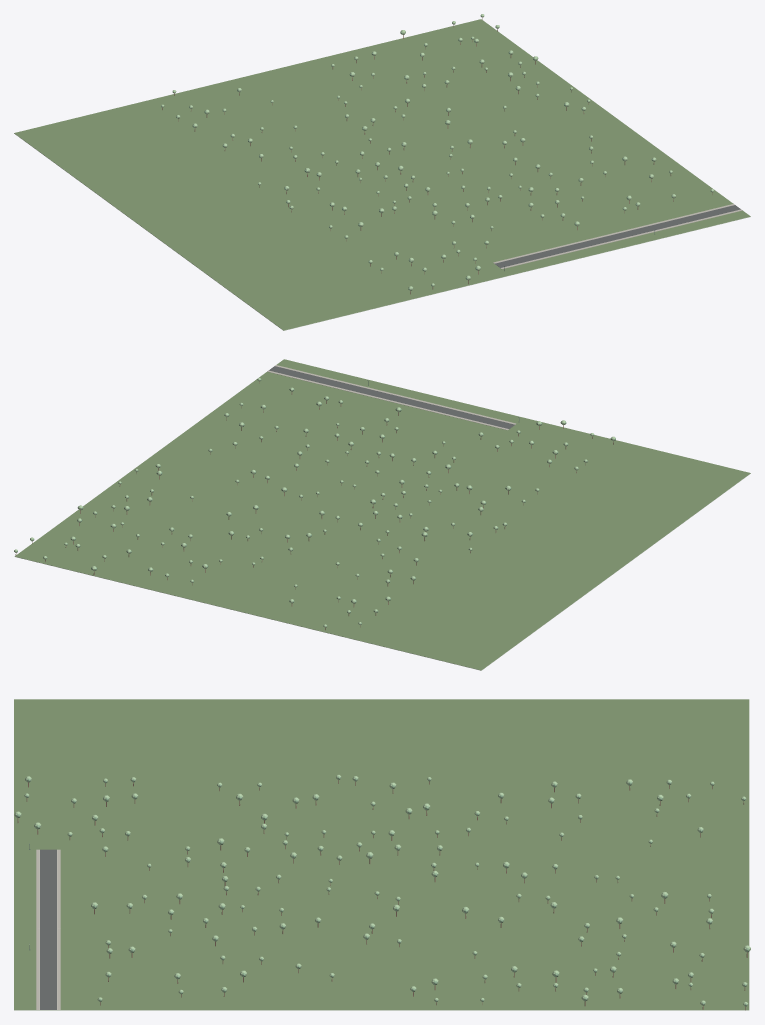
Rendered from chunk_0_5_high.glb.
3 renders of one model, top to bottom at view 1: azimuth 30°, elevation 25°; view 2: azimuth 150°, elevation 25°; view 3: azimuth 270°, elevation 25°, orthographic. The views are drawn at different scales.
Parts seen in each view (by area): view 1: city_forest_floor, city_foliage, city_world_asphalt, city_world_sidewalk, city_foliage_dark, city_grass, city_bark; view 2: city_forest_floor, city_foliage, city_world_asphalt, city_foliage_dark, city_world_sidewalk, city_grass, city_bark; view 3: city_forest_floor, city_foliage, city_world_asphalt, city_foliage_dark, city_world_sidewalk, city_bark, city_grass.
Part boxes in pixels (x1,y1,x2,y2): city_forest_floor: (14,19,750,330); city_foliage: (161,14,714,290); city_world_asphalt: (494,205,740,267); city_world_sidewalk: (493,204,742,269); city_foliage_dark: (161,15,711,290); city_grass: (14,133,750,330); city_bark: (162,17,712,294); city_forest_floor: (15,359,750,670); city_foliage: (14,378,615,627); city_world_asphalt: (269,366,514,428); city_foliage_dark: (14,379,615,626); city_world_sidewalk: (267,365,516,430); city_grass: (15,473,750,670); city_bark: (15,381,613,630); city_forest_floor: (14,699,749,1009); city_foliage: (14,774,750,1006); city_world_asphalt: (40,849,56,1009); city_foliage_dark: (16,776,749,1006); city_world_sidewalk: (36,849,60,1009); city_bark: (17,780,747,1010); city_grass: (14,1010,749,1010).
Bounding box in the file's own units: 514 × 9.71 × 513.
